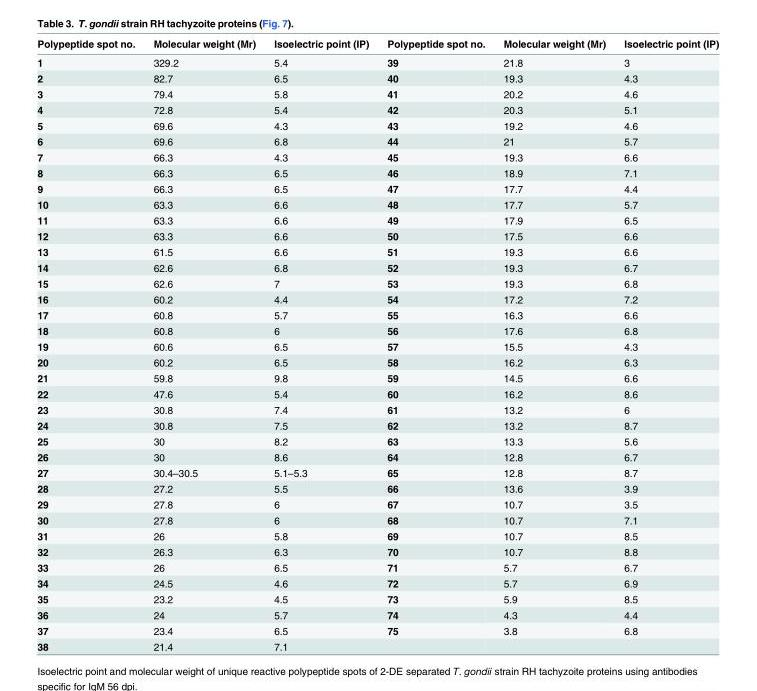table: (36, 37, 718, 651)
table column: (143, 37, 264, 651), (493, 37, 614, 651), (377, 37, 493, 651), (264, 37, 377, 651), (36, 37, 143, 651), (614, 37, 718, 651)
table column header: (36, 37, 718, 52)
table row: (36, 52, 718, 69), (36, 69, 718, 85), (36, 85, 718, 101), (36, 101, 718, 117), (36, 117, 718, 133), (36, 148, 718, 164), (36, 164, 718, 180), (36, 180, 718, 196), (36, 211, 718, 227), (36, 227, 718, 243), (36, 243, 718, 259), (36, 259, 718, 275), (36, 290, 718, 306), (36, 306, 718, 322), (36, 322, 718, 338), (36, 353, 718, 369), (36, 369, 718, 385), (36, 385, 718, 401), (36, 401, 718, 417), (36, 432, 718, 448), (36, 448, 718, 464), (36, 464, 718, 480), (36, 480, 718, 496), (36, 511, 718, 527), (36, 527, 718, 543), (36, 543, 718, 559), (36, 574, 718, 590), (36, 590, 718, 606), (36, 606, 718, 622), (36, 622, 718, 638), (36, 37, 718, 52), (36, 133, 718, 148), (36, 196, 718, 211), (36, 275, 718, 290), (36, 338, 718, 353), (36, 417, 718, 432), (36, 496, 718, 511), (36, 559, 718, 574), (36, 638, 718, 651)
